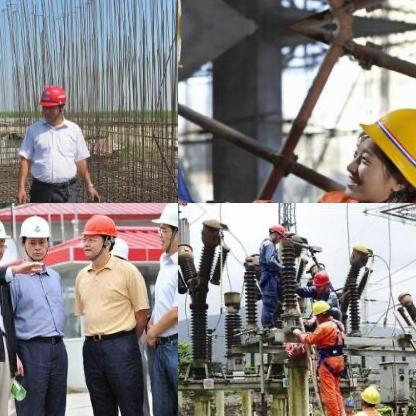Helmet: (336, 90, 415, 202), (80, 211, 118, 257), (18, 210, 52, 260), (35, 77, 67, 121), (156, 203, 177, 252), (310, 294, 330, 322), (309, 267, 332, 291), (358, 385, 380, 410), (265, 223, 285, 244), (344, 396, 354, 414)
